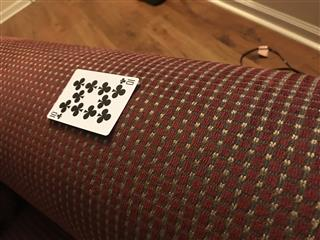TenOfClubs: (45, 67, 140, 137)
